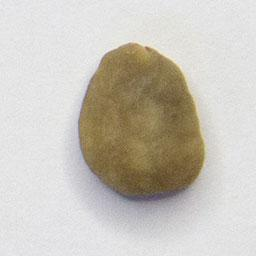premium: (74, 37, 210, 200)
